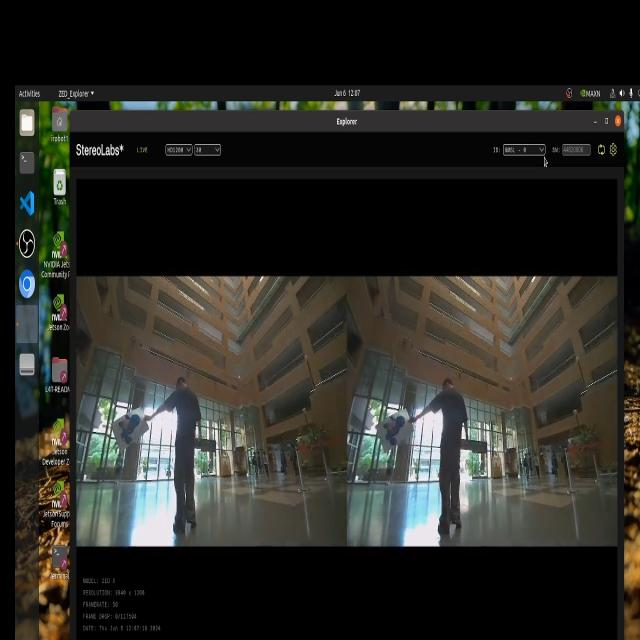blue: (114, 405, 141, 446), (380, 408, 405, 446)
